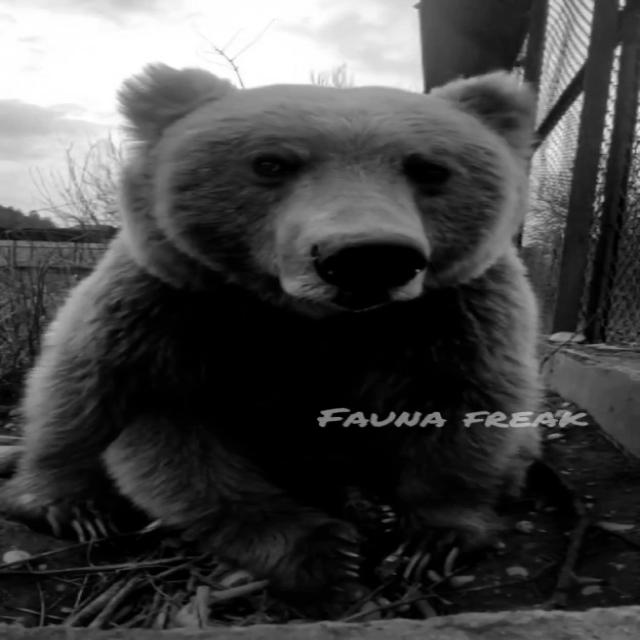Bear: (1, 61, 547, 604)
